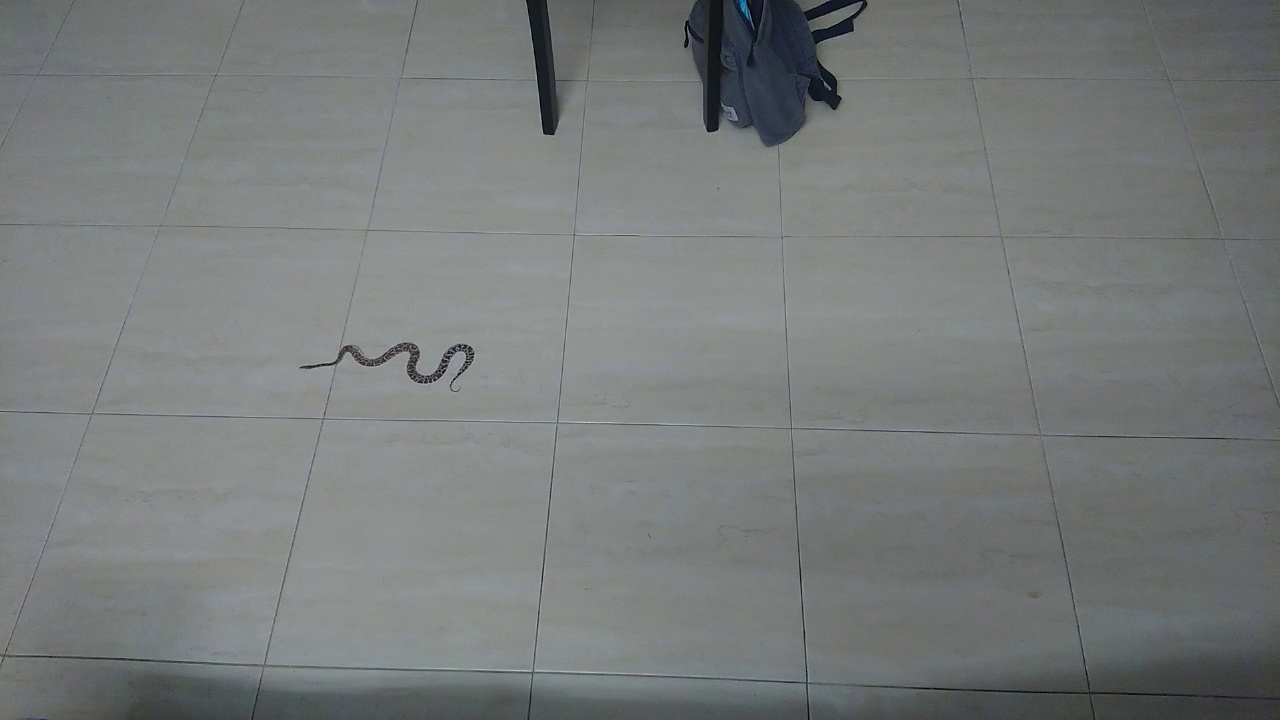snake: (281, 324, 499, 401)
